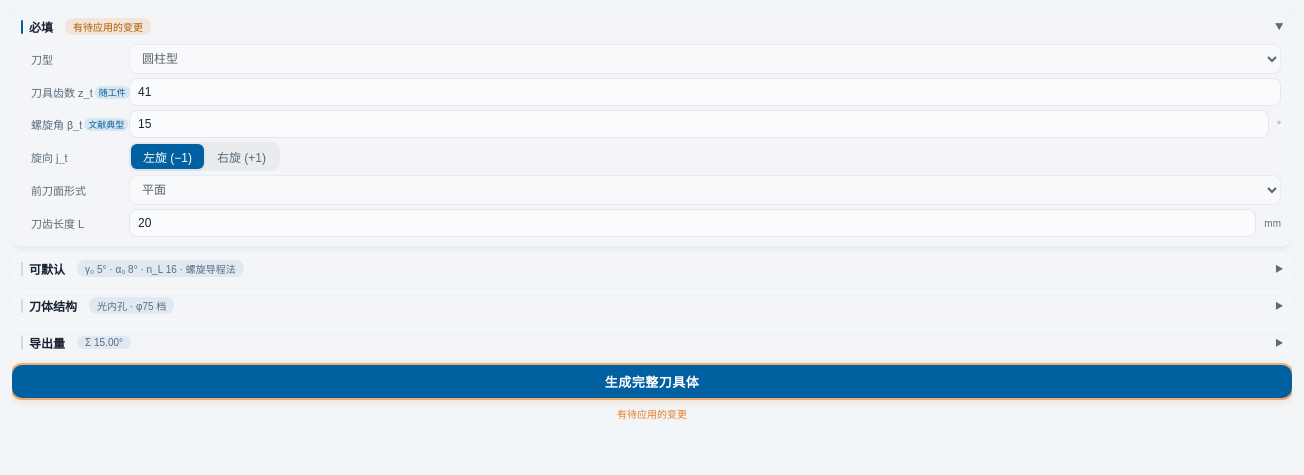
Test case: ToolSolidPanel — 手动生成 + 图层替换（Q2-a） › 失败就地展示仓库契约 error 文案；dirty 与过期位都不被清除
What coordinates should you click on to do the following:
click the button with test id "generate-tool-ring"
I would click on:
 (652, 382)
Its box is x1=12 y1=365 x2=1292 y2=398.
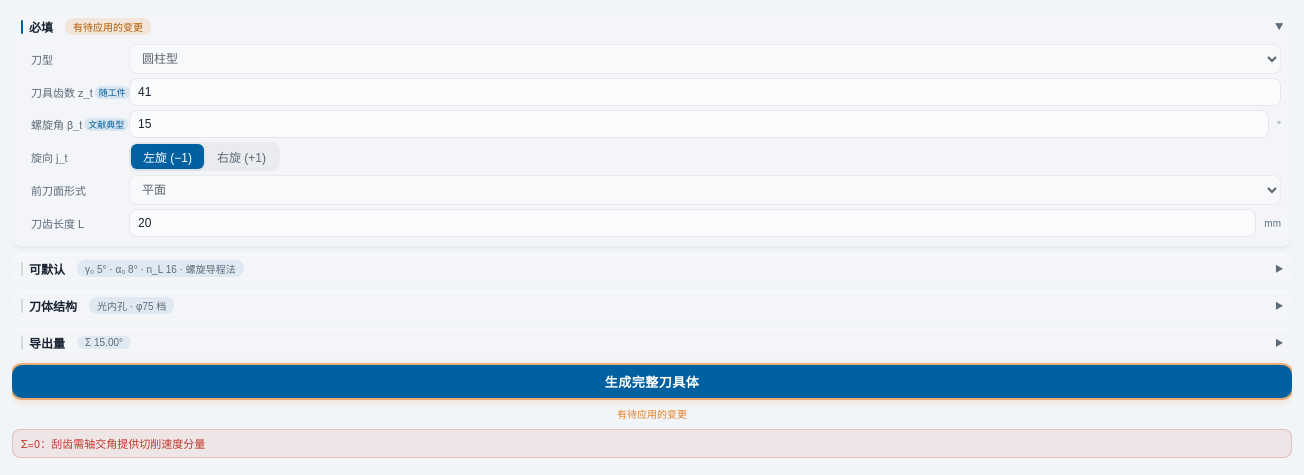
Result: the text "Σ=0：刮齿需轴交角提供切削速度分量" is shown at x1=12 y1=429 x2=1292 y2=458
Result: the text with test id "generate-error" shows "Σ=0" at x1=21 y1=435 x2=205 y2=451
